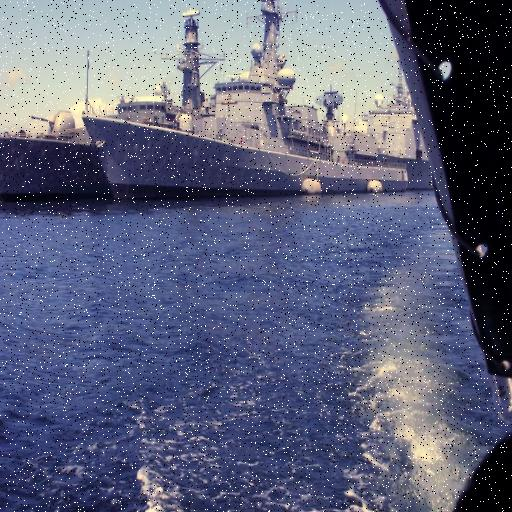Fragata: (80, 1, 416, 209)
